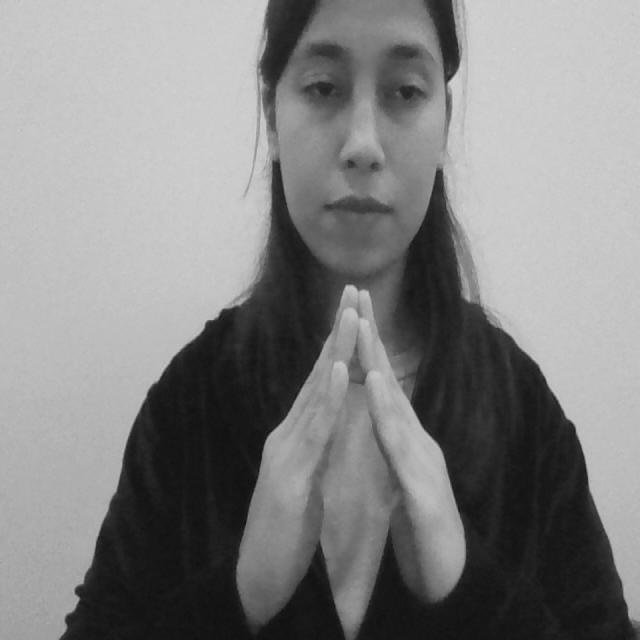Ev: (232, 273, 471, 622)
